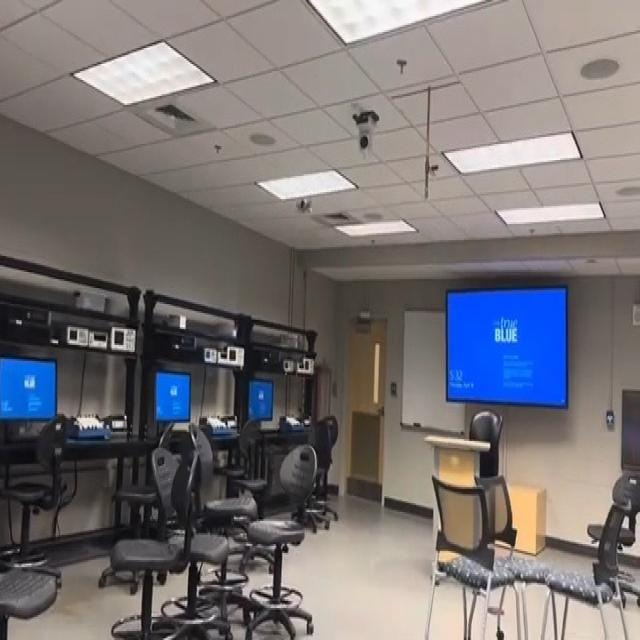drone: (289, 183, 321, 220)
